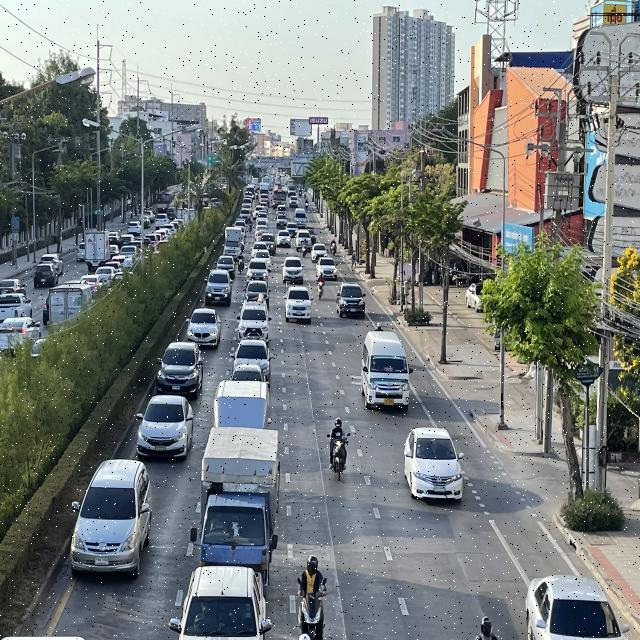bike: (294, 553, 328, 640), (325, 411, 352, 483), (315, 273, 326, 303)
car: (64, 454, 156, 582), (519, 570, 632, 640), (170, 565, 272, 640), (403, 423, 466, 506), (358, 329, 412, 412), (136, 393, 192, 458), (155, 342, 203, 396), (231, 338, 273, 383), (336, 282, 366, 318)
truck: (192, 429, 279, 596), (210, 378, 270, 438), (236, 297, 271, 345), (283, 280, 314, 322), (222, 227, 240, 259)
